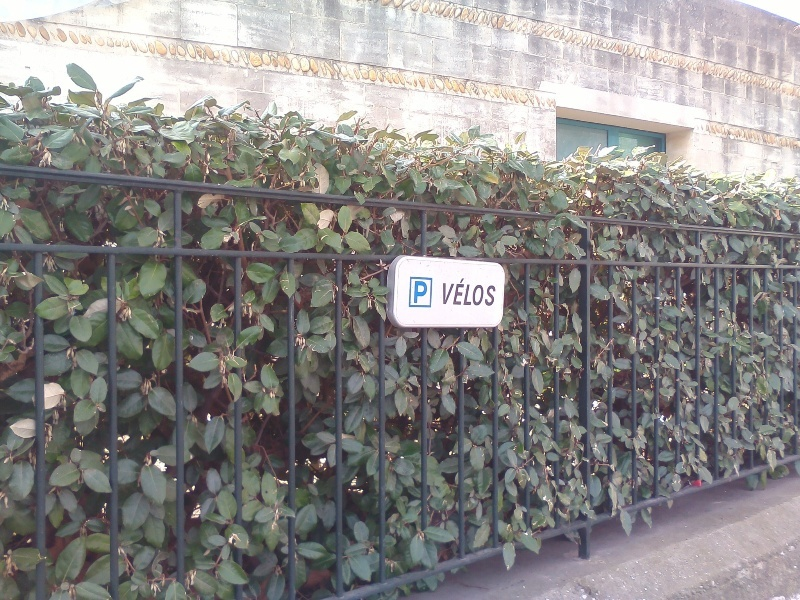text: (481, 277, 497, 306), (449, 277, 464, 306), (465, 277, 480, 306), (417, 281, 429, 304), (443, 277, 448, 306), (415, 281, 416, 304)
